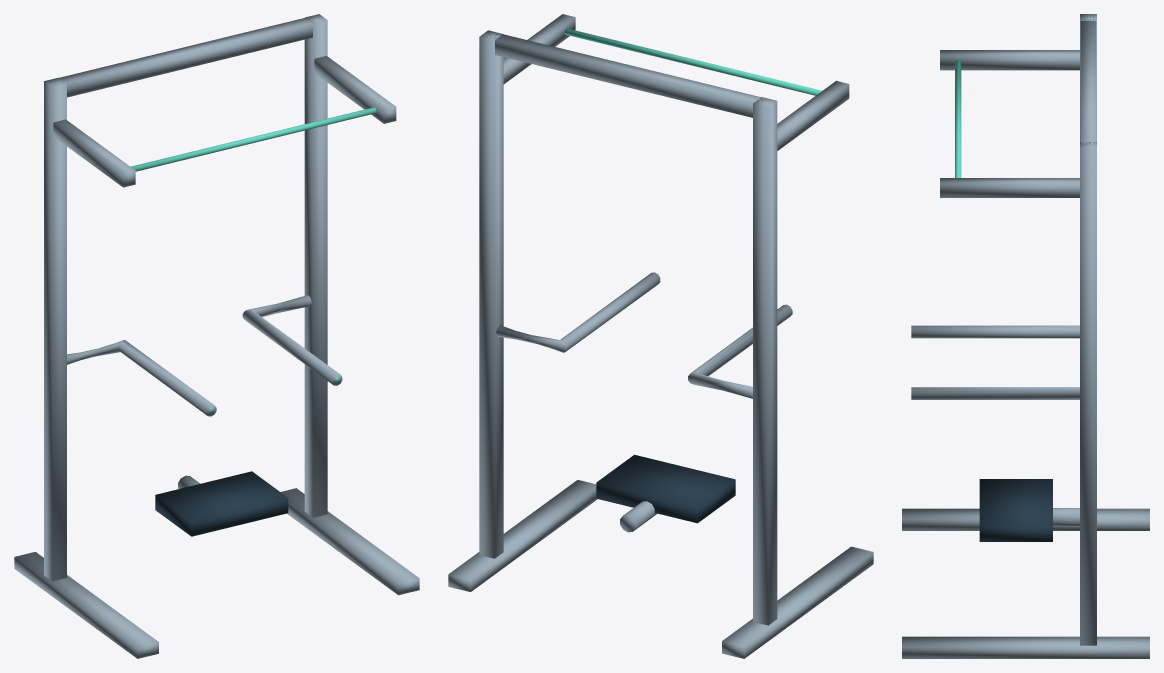
The model's file is assisted_combo_tower.glb.
3 views of the same model, side by side, from view 1: azimuth 30°, elevation 25°; view 2: azimuth 150°, elevation 25°; view 3: azimuth 270°, elevation 25° (orthographic). The views are drawn at different scales.
Visible parts, largest first — view 1: tower, base, platform_pad, dip_support_L, dip_support_R, pullup_bar; view 2: tower, base, platform_pad, dip_support_L, dip_support_R, pullup_bar, platform_carriage; view 3: tower, base, platform_pad, dip_support_R, dip_support_L, pullup_bar, platform_carriage.
Boxes of the visible parts, x1,y1,x2,y2 form: tower: [44, 14, 396, 581]; base: [14, 488, 419, 658]; platform_pad: [155, 471, 288, 536]; dip_support_L: [242, 295, 342, 385]; dip_support_R: [67, 340, 216, 416]; pullup_bar: [131, 107, 376, 171]; tower: [479, 14, 849, 625]; base: [448, 480, 873, 658]; platform_pad: [596, 454, 735, 523]; dip_support_L: [496, 272, 660, 352]; dip_support_R: [688, 304, 792, 398]; pullup_bar: [564, 28, 821, 95]; platform_carriage: [620, 501, 656, 532]; tower: [940, 14, 1096, 645]; base: [902, 508, 1149, 658]; platform_pad: [979, 479, 1052, 541]; dip_support_R: [911, 325, 1079, 338]; dip_support_L: [911, 387, 1079, 399]; pullup_bar: [955, 60, 961, 177]; platform_carriage: [1053, 508, 1079, 525].
Size of the model in its own units: 1.25 by 2.15 by 0.95.
